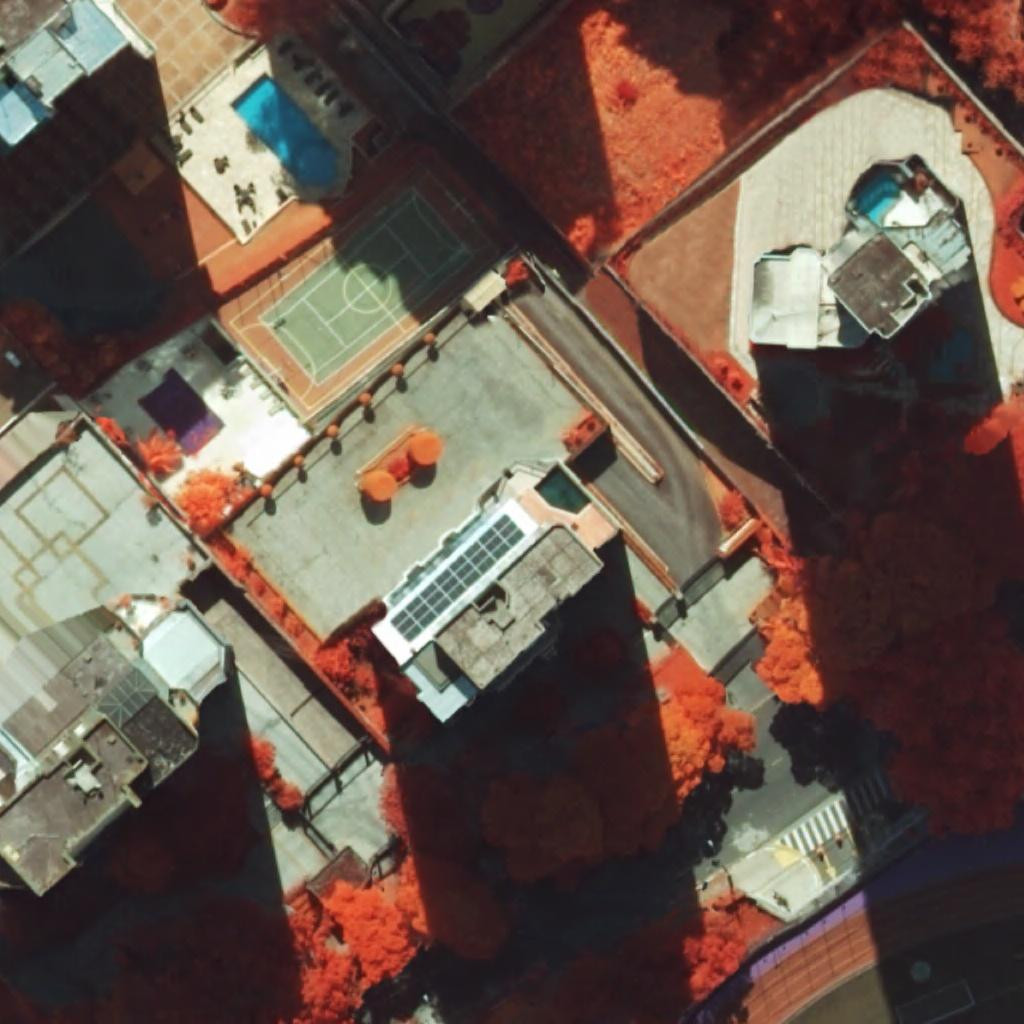pool: (229, 73, 342, 188), (137, 368, 203, 458), (857, 175, 900, 226)
